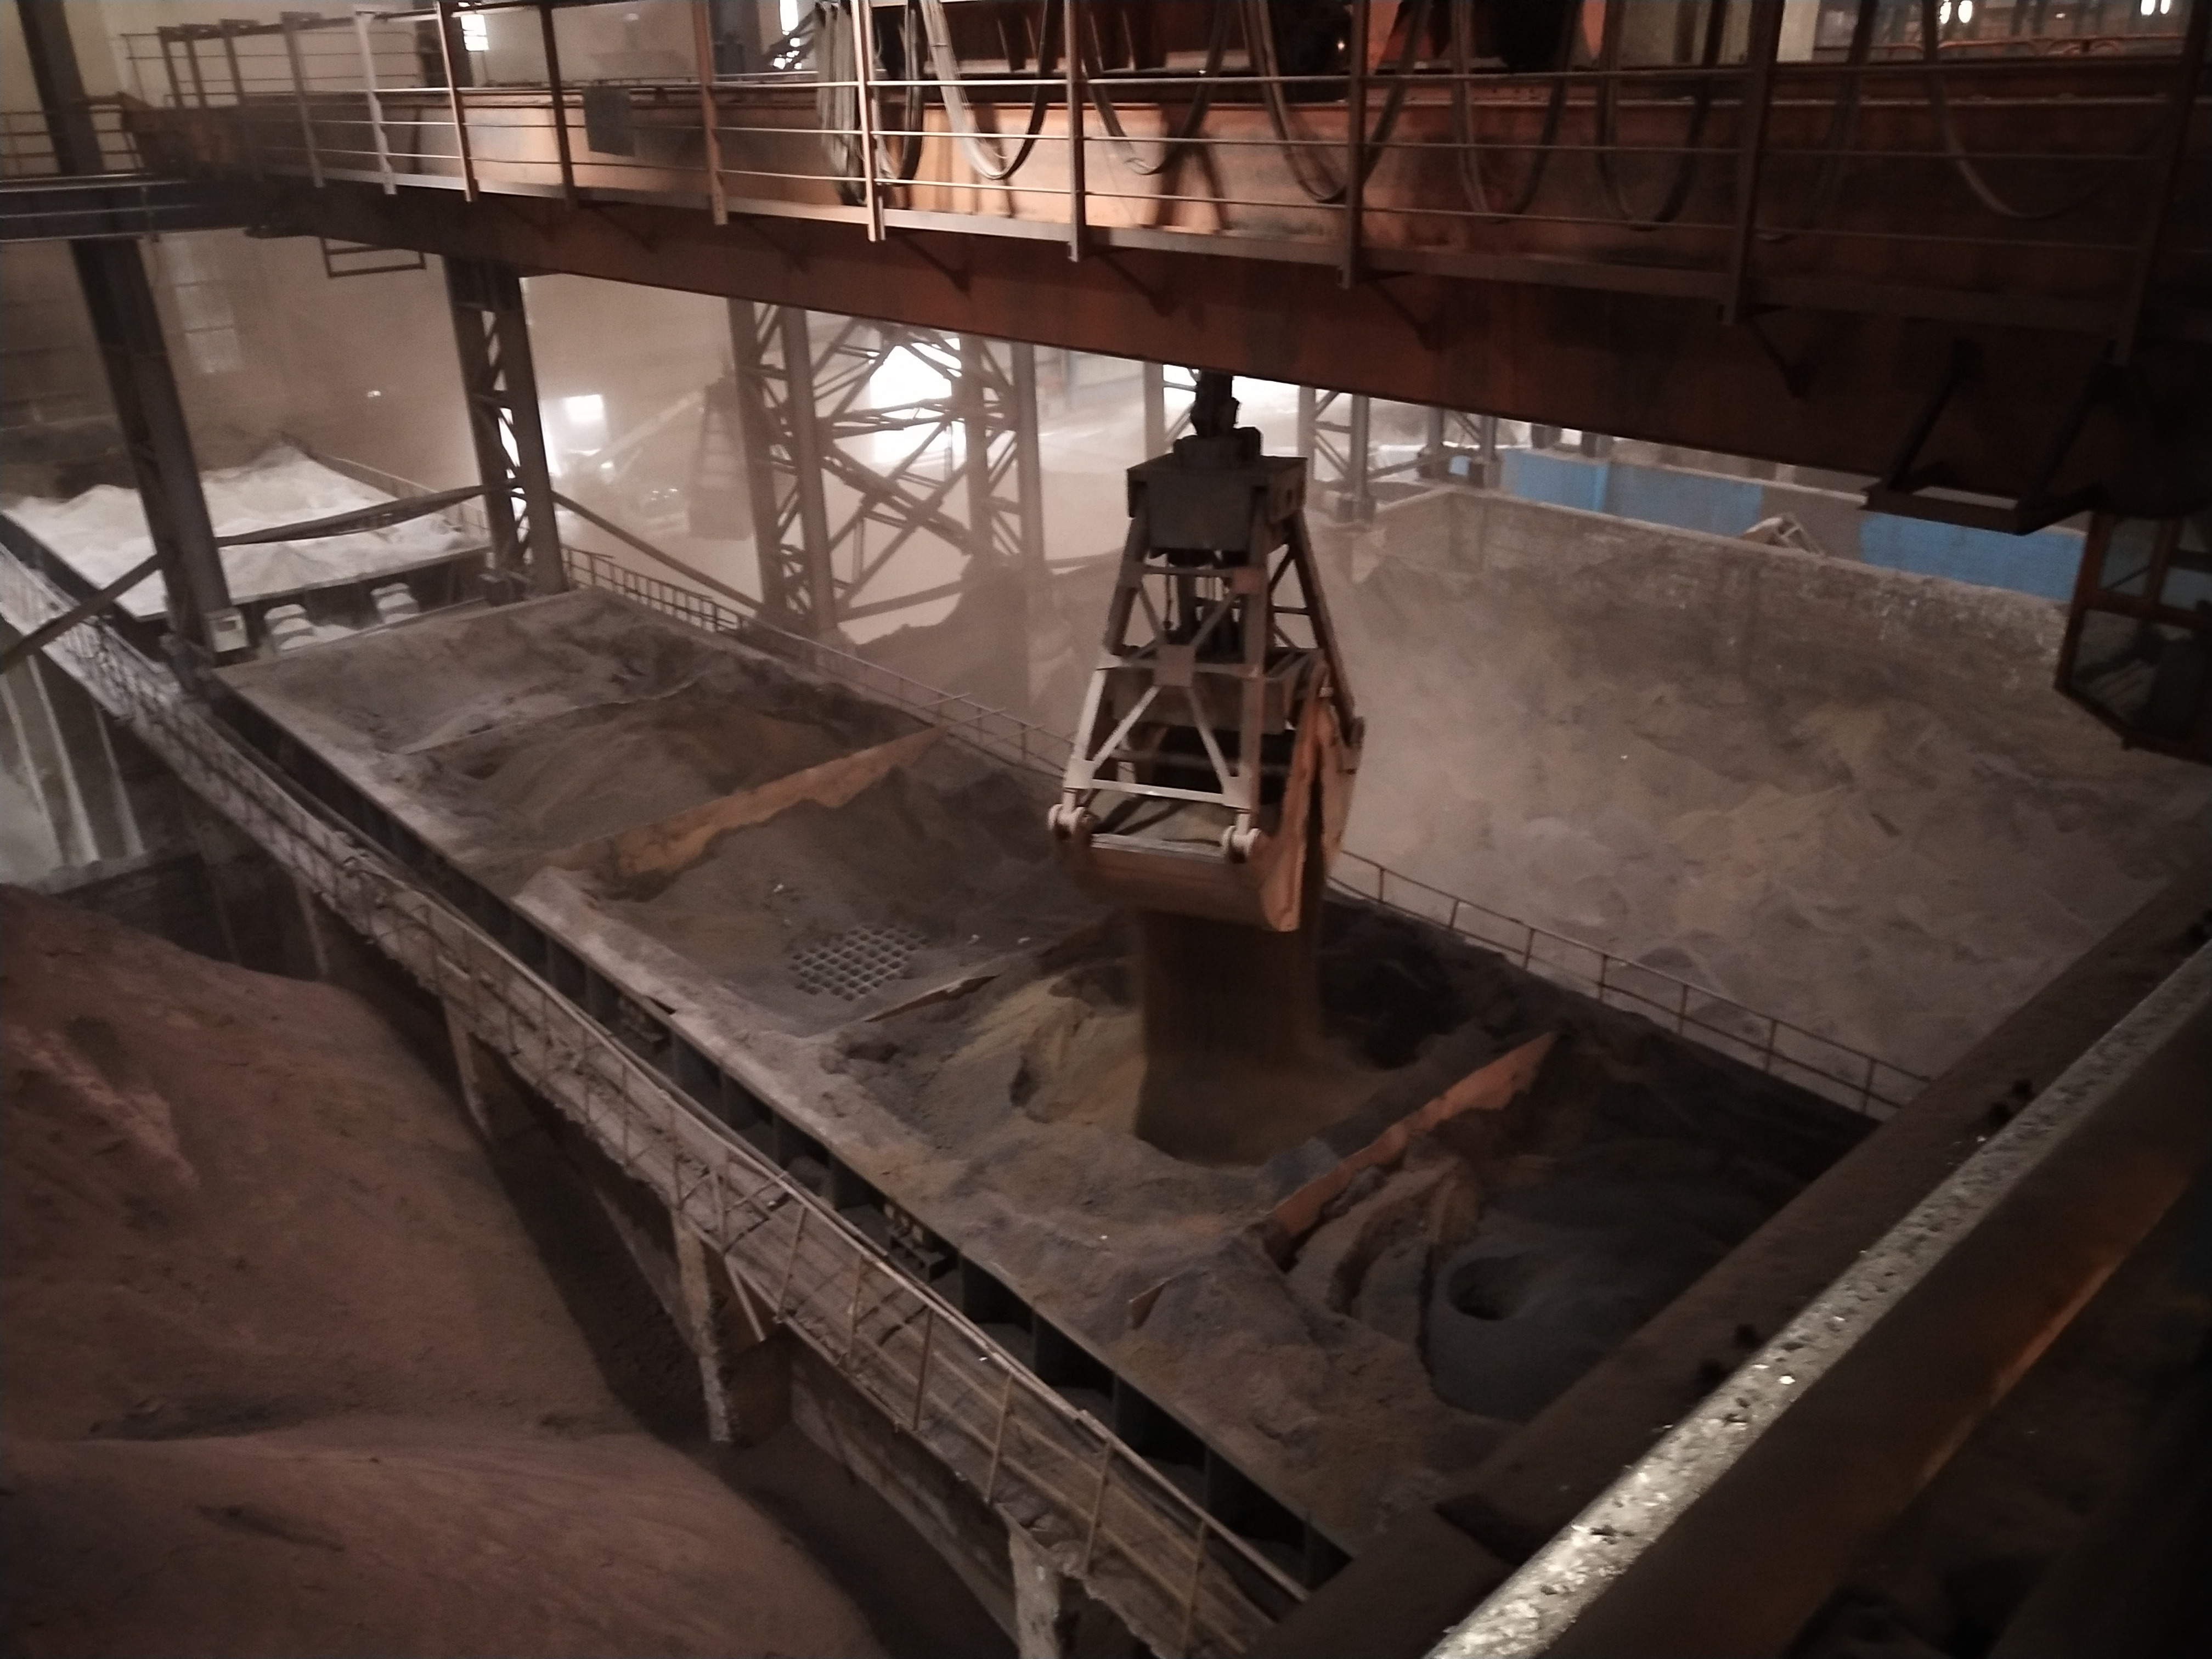dust: (1371, 633, 1766, 899)
grab: (1010, 345, 1383, 941)
